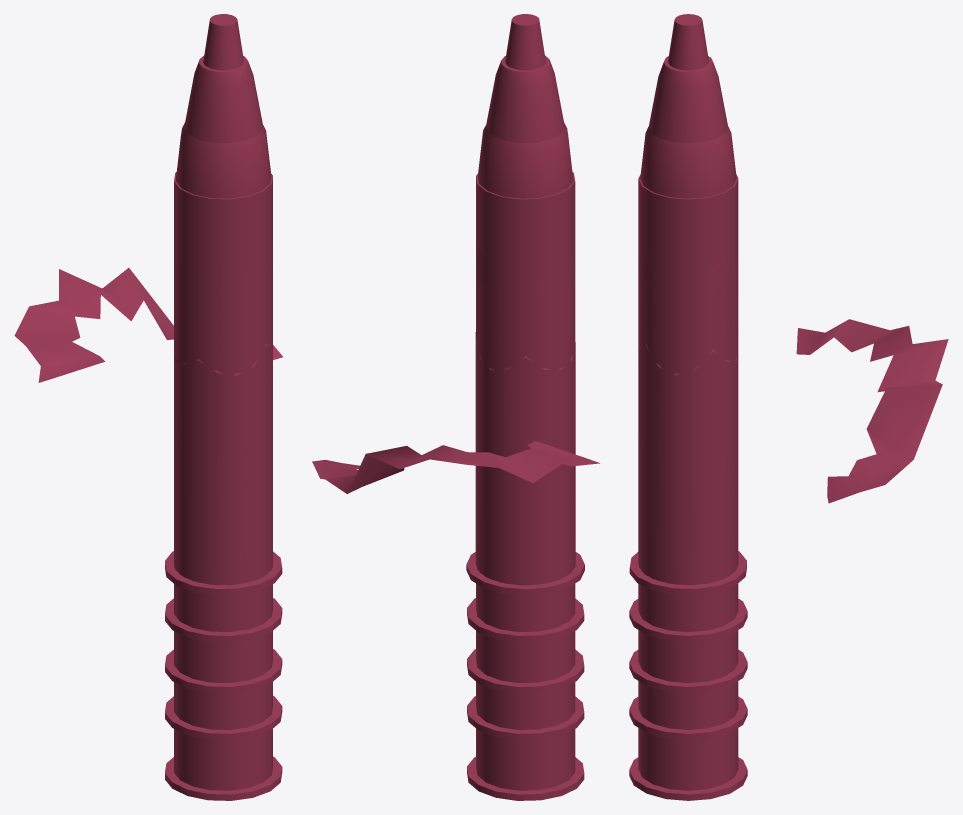
Rendered from Ammo.fbx.
3 views of the same model, side by side, from view 1: azimuth 30°, elevation 25°; view 2: azimuth 150°, elevation 25°; view 3: azimuth 270°, elevation 25° (orthographic).
Parts seen in each view (by area): view 1: Empty_Shell, Explosive_Shell, PencilShell_Short, Ballistic_Shell, PencilShell_Long, Pencil_Shaving; view 2: Empty_Shell, Explosive_Shell, Ballistic_Shell, PencilShell_Short, Pencil_Shaving, PencilShell_Long; view 3: Empty_Shell, Explosive_Shell, PencilShell_Short, Pencil_Shaving, Ballistic_Shell, PencilShell_Long.
Part boxes in pixels (x1=…): Empty_Shell: x1=165, y1=172, x2=282, y2=642; Explosive_Shell: x1=165, y1=14, x2=282, y2=800; PencilShell_Short: x1=165, y1=343, x2=282, y2=595; Ballistic_Shell: x1=165, y1=123, x2=282, y2=740; PencilShell_Long: x1=165, y1=247, x2=282, y2=693; Pencil_Shaving: x1=14, y1=268, x2=283, y2=382; Empty_Shell: x1=467, y1=172, x2=584, y2=642; Explosive_Shell: x1=467, y1=14, x2=584, y2=800; Ballistic_Shell: x1=467, y1=122, x2=584, y2=740; PencilShell_Short: x1=466, y1=331, x2=584, y2=595; Pencil_Shaving: x1=312, y1=441, x2=599, y2=493; PencilShell_Long: x1=467, y1=245, x2=584, y2=693; Empty_Shell: x1=629, y1=174, x2=747, y2=642; Explosive_Shell: x1=629, y1=14, x2=747, y2=800; PencilShell_Short: x1=629, y1=343, x2=746, y2=595; Pencil_Shaving: x1=796, y1=319, x2=948, y2=503; Ballistic_Shell: x1=629, y1=126, x2=747, y2=740; PencilShell_Long: x1=629, y1=253, x2=747, y2=693.
Bounding box in the file's own units: 26.42 × 73.37 × 28.09.
